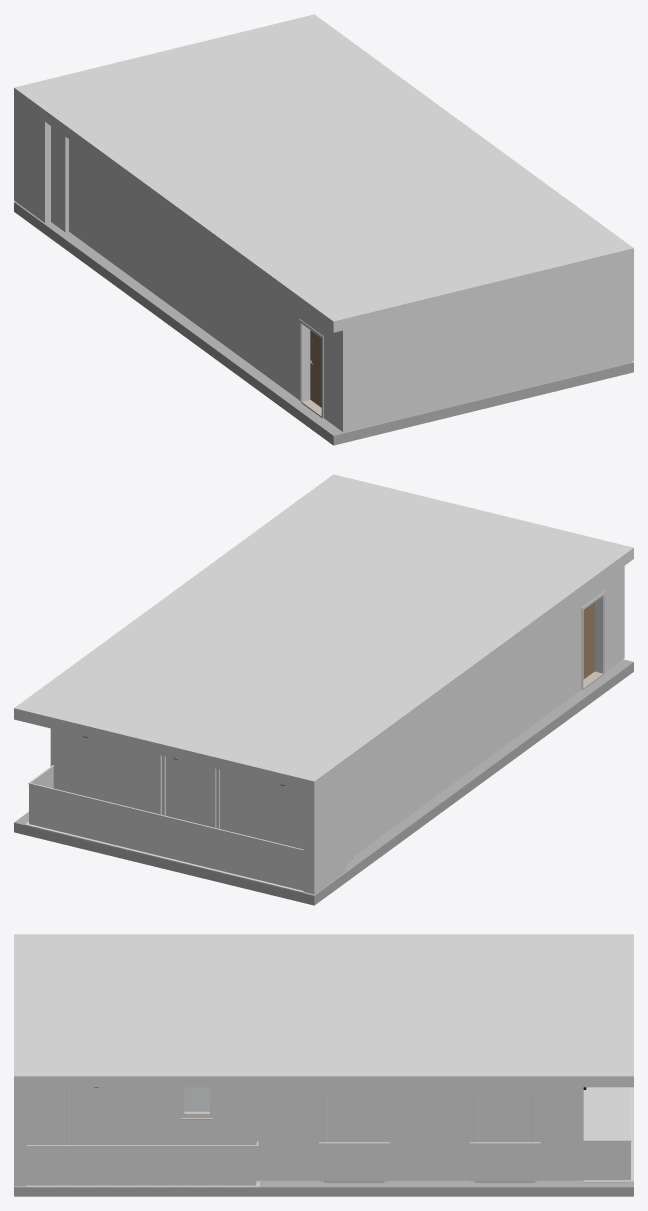
Rendered from shell.glb.
The picture shows the model from 3 angles, top to bottom: view 1: azimuth 30°, elevation 25°; view 2: azimuth 150°, elevation 25°; view 3: azimuth 270°, elevation 25°; orthographic projection. The views are drawn at different scales.
Parts seen in each view (by area): view 1: ceiling, walls, slab, D0 frame, D0 leaf; view 2: ceiling, walls, rail glass, slab, glass, D0 frame, balcony tiles, D0 leaf, window frame, rail top; view 3: ceiling, walls, rail glass, slab, balcony tiles, glass.004, juliet glass, juliet glass.001, glass.002, glass.001, window frame.001, window frame.002 (+5 smaller).
Part boxes in pixels (x1,y1,x2,y2): ceiling: [14, 14, 633, 332]; walls: [14, 99, 633, 431]; slab: [14, 201, 633, 445]; D0 frame: [299, 319, 323, 417]; D0 leaf: [310, 330, 321, 407]; ceiling: [14, 474, 633, 792]; walls: [50, 566, 624, 894]; rail glass: [29, 767, 303, 890]; slab: [14, 659, 633, 905]; glass: [166, 756, 266, 840]; D0 frame: [581, 591, 605, 689]; balcony tiles: [24, 821, 304, 893]; D0 leaf: [583, 602, 594, 678]; window frame: [162, 755, 268, 840]; rail top: [28, 765, 303, 850]; ceiling: [14, 934, 633, 1087]; walls: [14, 1087, 583, 1185]; rail glass: [26, 1141, 630, 1185]; slab: [14, 1180, 633, 1196]; balcony tiles: [26, 1087, 633, 1187]; glass.004: [69, 1087, 123, 1145]; juliet glass: [469, 1144, 540, 1181]; juliet glass.001: [318, 1144, 389, 1181]; glass.002: [327, 1094, 381, 1142]; glass.001: [478, 1094, 531, 1142]; window frame.001: [475, 1093, 535, 1142]; window frame.002: [324, 1093, 384, 1142].
Size of the model in its own units: 8.36 by 3.3 by 15.4.
45 materials, 2 textured.
